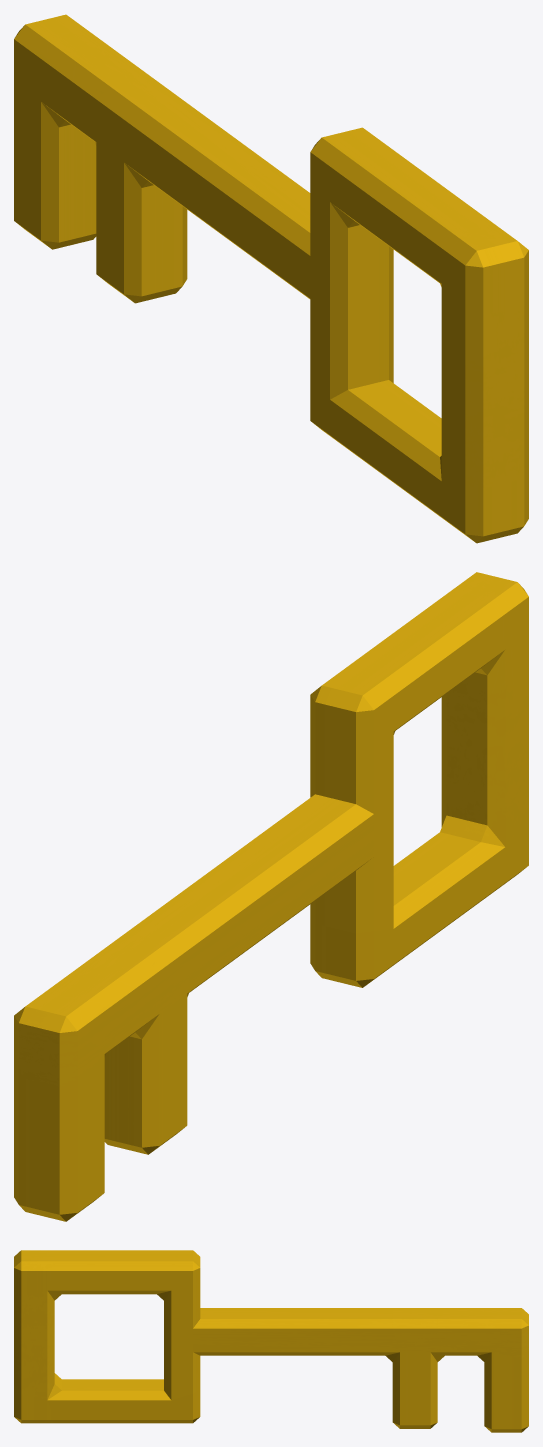
The model's file is key.obj.
The picture shows the model from 3 angles, top to bottom: view 1: azimuth 30°, elevation 25°; view 2: azimuth 150°, elevation 25°; view 3: azimuth 270°, elevation 25°; orthographic projection. The views are drawn at different scales.
Visible parts, largest first — view 1: Cube; view 2: Cube; view 3: Cube.
Part boxes in pixels (bbox=[...]): Cube: bbox=[14, 14, 528, 543]; Cube: bbox=[14, 572, 528, 1221]; Cube: bbox=[14, 1250, 528, 1432].
Bounding box in the file's own units: 0.2242 × 1.04 × 2.84.
1 material, 1 textured.
